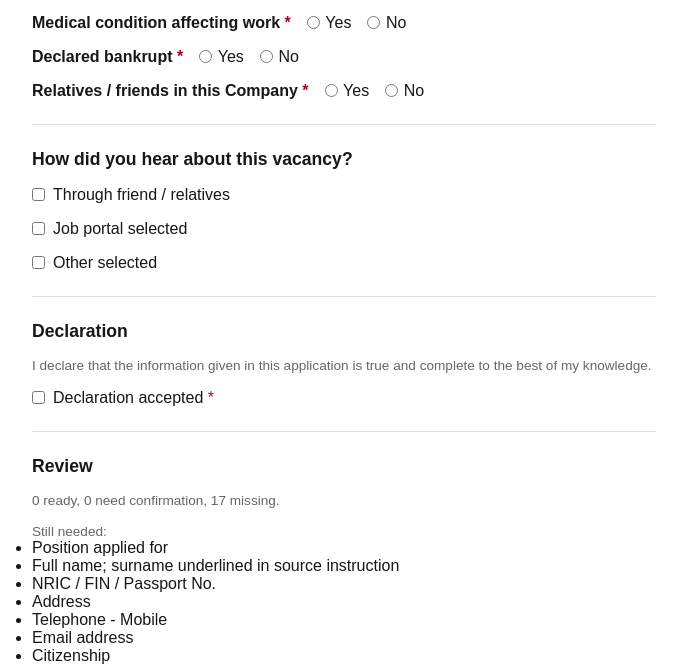
Test: CandidateForm › requires declaration acceptance before showing date and signature
(page scrolled)
Expected: the field labelled "signature of applicant" is not shown
Step 1. Click the checkbox labelled "Declaration accepted" → (38, 398), box [32,392,45,404]
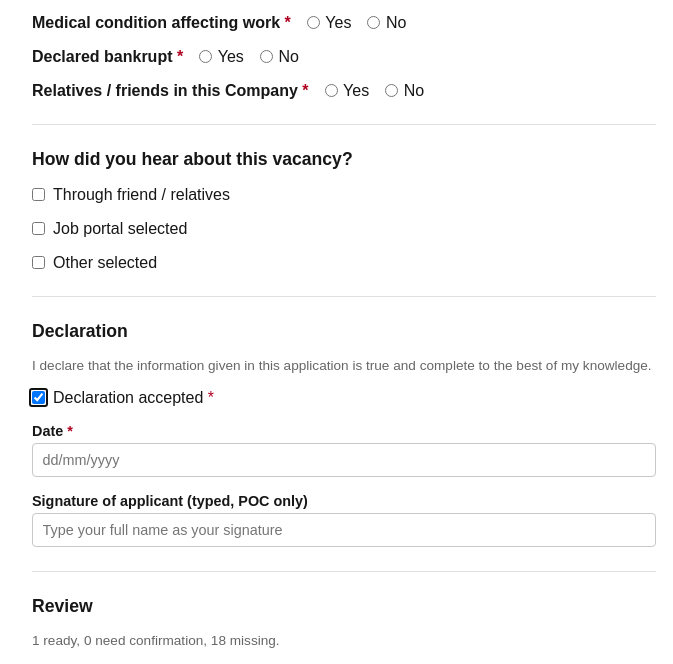
Expected: the field labelled "Signature of applicant (typed, POC only)" is shown, [32,513,656,547]
Expected: the field labelled "Date" is shown, [32,443,656,477]
